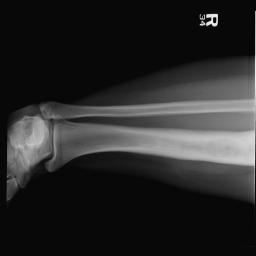cancer: (131, 129, 254, 165)
